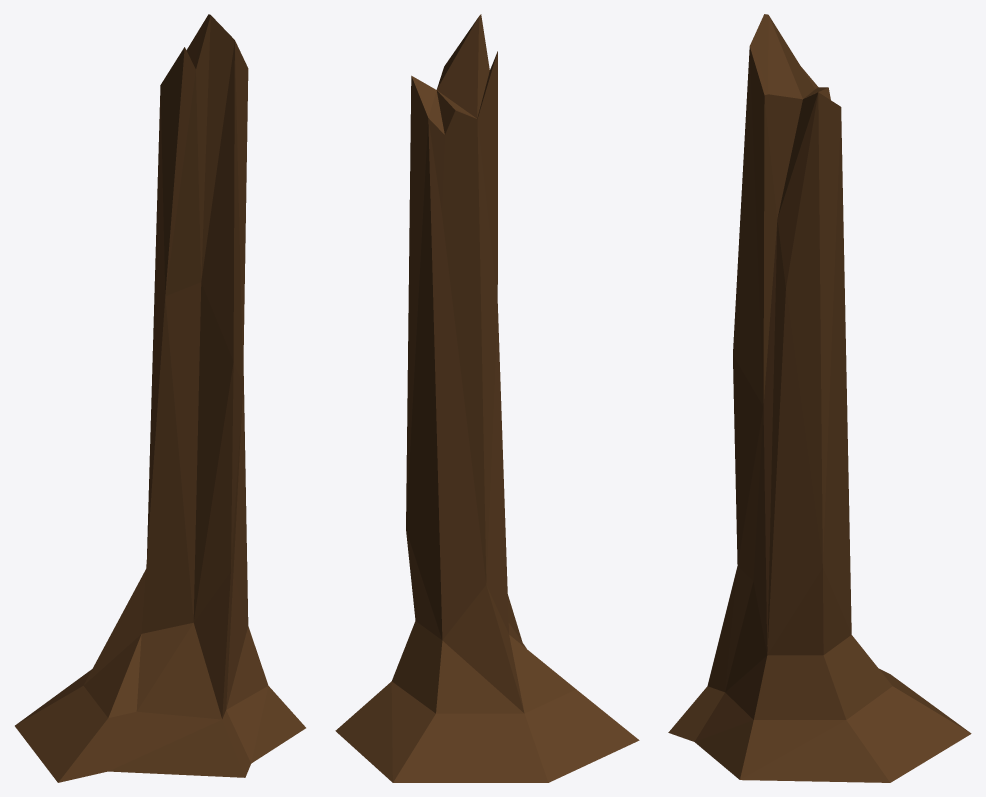
File: tree-spruce-broken-a.gltf
3 views of the same model, side by side, from view 1: azimuth 30°, elevation 25°; view 2: azimuth 150°, elevation 25°; view 3: azimuth 270°, elevation 25° (orthographic). The views are drawn at different scales.
Parts seen in each view (by area): view 1: tree-spruce-broken-a; view 2: tree-spruce-broken-a; view 3: tree-spruce-broken-a.
Part boxes in pixels (bbox=[...]): tree-spruce-broken-a: bbox=[15, 14, 305, 782]; tree-spruce-broken-a: bbox=[335, 14, 639, 782]; tree-spruce-broken-a: bbox=[668, 14, 971, 782].
Size of the model in its own units: 0.0127 by 0.0355 by 0.0135.
